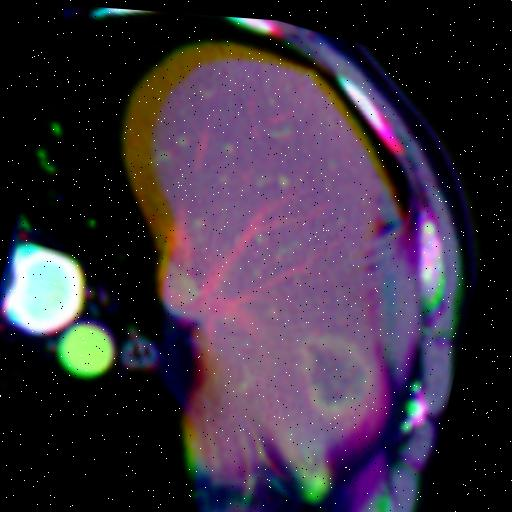Tumor: (305, 330, 370, 407)
